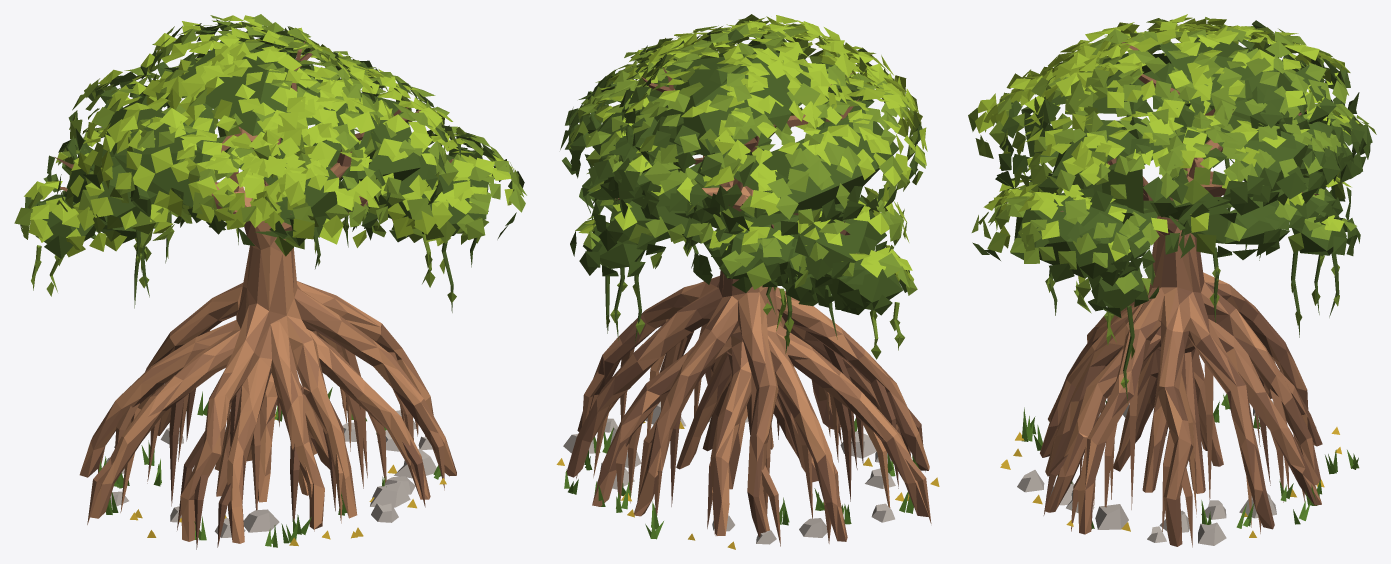
File: giant_mangrove_bloom.glb
3 renders of one model, left to right at view 1: azimuth 30°, elevation 25°; view 2: azimuth 150°, elevation 25°; view 3: azimuth 270°, elevation 25°, orthographic.
Visible parts, largest first — view 1: giant_mangrove_bloom; view 2: giant_mangrove_bloom; view 3: giant_mangrove_bloom.
Boxes of the visible parts, x1,y1,x2,y2 form: giant_mangrove_bloom: (14, 14, 526, 549); giant_mangrove_bloom: (556, 14, 939, 549); giant_mangrove_bloom: (968, 14, 1376, 547).
Bounding box in the file's own units: 25.81 × 26.66 × 22.51.
